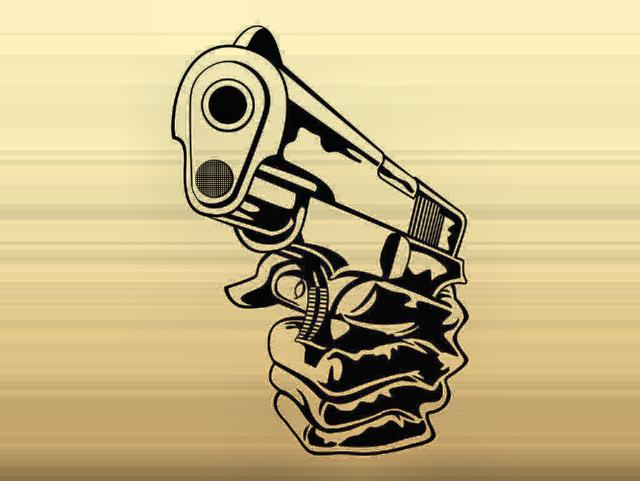pistol: (170, 8, 472, 454)
